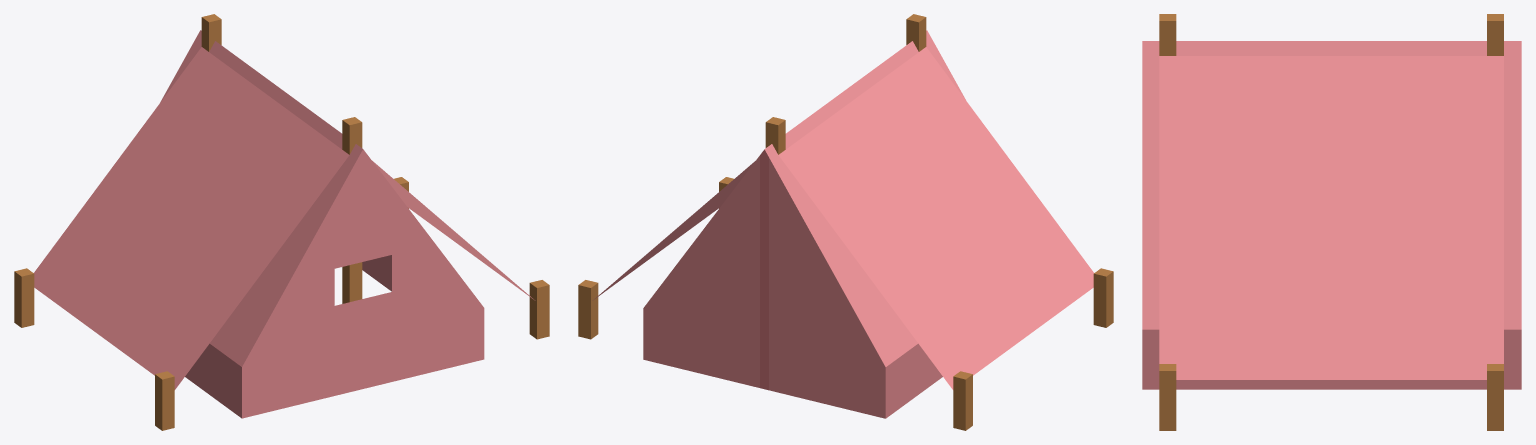
File: tent_detailedClosed.glb
3 renders of one model, left to right at view 1: azimuth 30°, elevation 25°; view 2: azimuth 150°, elevation 25°; view 3: azimuth 270°, elevation 25°, orthographic. The views are drawn at different scales.
Parts seen in each view (by area): view 1: tent_detailedClosed; view 2: tent_detailedClosed; view 3: tent_detailedClosed.
Part boxes in pixels (x1,y1,x2,y2): tent_detailedClosed: (14, 14, 549, 430); tent_detailedClosed: (578, 14, 1113, 430); tent_detailedClosed: (1142, 14, 1521, 430).
Bounding box in the file's own units: 0.8749 × 0.5611 × 0.6364.
